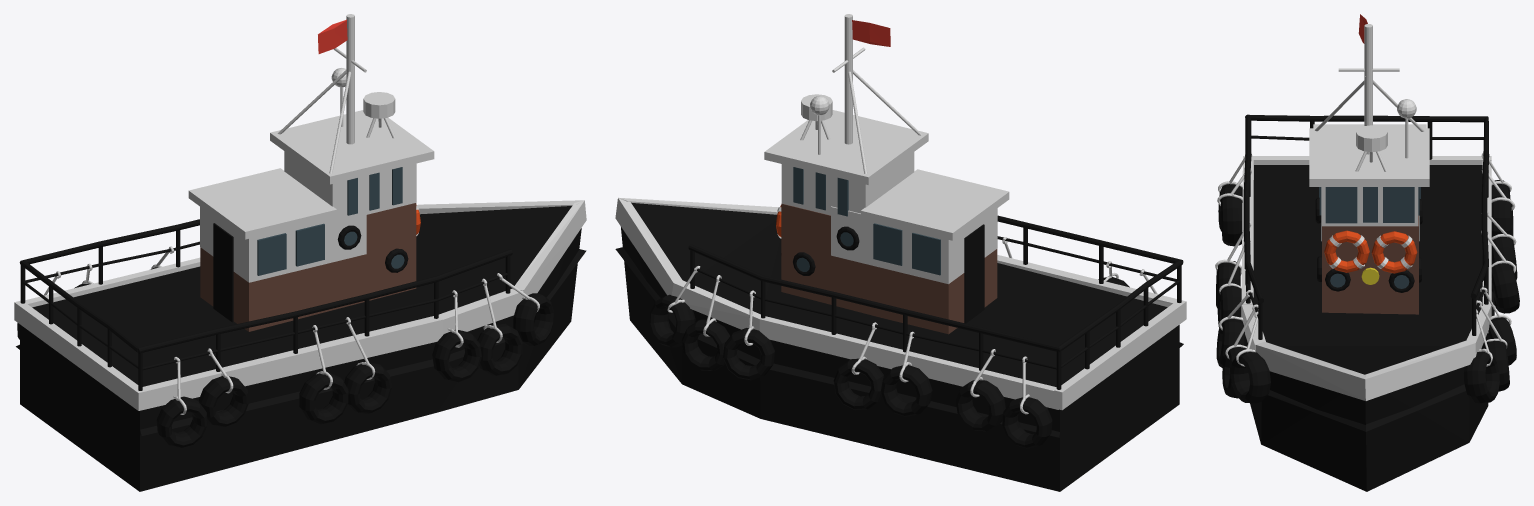
3 renders of one model, left to right at view 1: azimuth 30°, elevation 25°; view 2: azimuth 150°, elevation 25°; view 3: azimuth 270°, elevation 25°, orthographic.
Parts seen in each view (by area): view 1: node_MeshObject1899078464-PolyPaper21, node_MeshObject-708670976-PolyPaper14, node_MeshObject1867365632-PolyPaper21, node_MeshObject-74865728-PolyPaper23, node_MeshObject-159657664-PolyPaper21; view 2: node_MeshObject1899078464-PolyPaper21, node_MeshObject-708670976-PolyPaper14, node_MeshObject-159657664-PolyPaper21, node_MeshObject-74865728-PolyPaper23, node_MeshObject1867365632-PolyPaper21; view 3: node_MeshObject1899078464-PolyPaper21, node_MeshObject-708670976-PolyPaper14, node_MeshObject1867365632-PolyPaper21, node_MeshObject-159657664-PolyPaper21, node_MeshObject-74865728-PolyPaper23.
Part boxes in pixels (left/top/right/bottom): node_MeshObject1899078464-PolyPaper21: left=20, top=14, right=581, bottom=491; node_MeshObject-708670976-PolyPaper14: left=14, top=200, right=583, bottom=414; node_MeshObject1867365632-PolyPaper21: left=19, top=200, right=586, bottom=400; node_MeshObject-74865728-PolyPaper23: left=20, top=168, right=579, bottom=368; node_MeshObject-159657664-PolyPaper21: left=17, top=252, right=529, bottom=367; node_MeshObject1899078464-PolyPaper21: left=621, top=14, right=1186, bottom=491; node_MeshObject-708670976-PolyPaper14: left=615, top=198, right=1184, bottom=437; node_MeshObject-159657664-PolyPaper21: left=694, top=207, right=1148, bottom=448; node_MeshObject-74865728-PolyPaper23: left=615, top=169, right=1183, bottom=367; node_MeshObject1867365632-PolyPaper21: left=618, top=197, right=1183, bottom=389; node_MeshObject1899078464-PolyPaper21: left=1216, top=14, right=1516, bottom=491; node_MeshObject-708670976-PolyPaper14: left=1216, top=121, right=1519, bottom=403; node_MeshObject1867365632-PolyPaper21: left=1215, top=114, right=1507, bottom=431; node_MeshObject-159657664-PolyPaper21: left=1227, top=121, right=1517, bottom=365; node_MeshObject-74865728-PolyPaper23: left=1236, top=115, right=1486, bottom=431.
Size of the model in its own units: 3.86 by 2.65 by 2.
